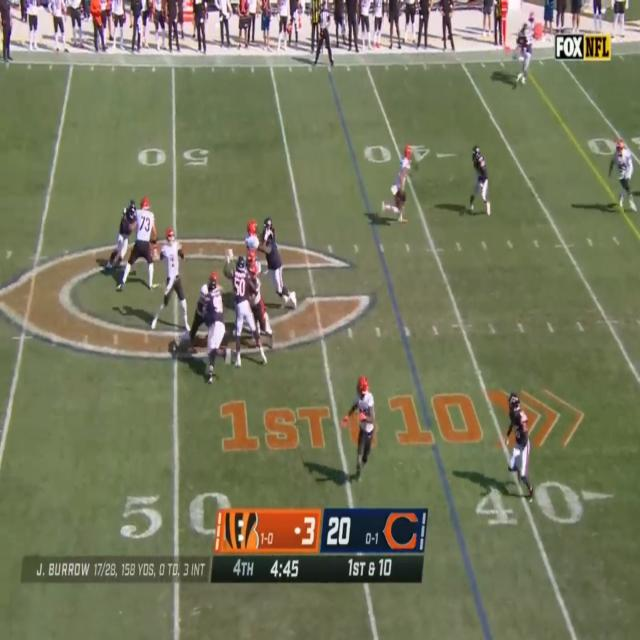Ball: (149, 236, 157, 244)
